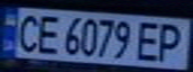0: (78, 16, 100, 57)
6: (60, 15, 84, 56)
7: (97, 16, 118, 58)
9: (112, 17, 136, 61)
C: (9, 11, 42, 53)
E: (133, 19, 166, 62), (33, 12, 63, 55)
P: (151, 20, 190, 62)
